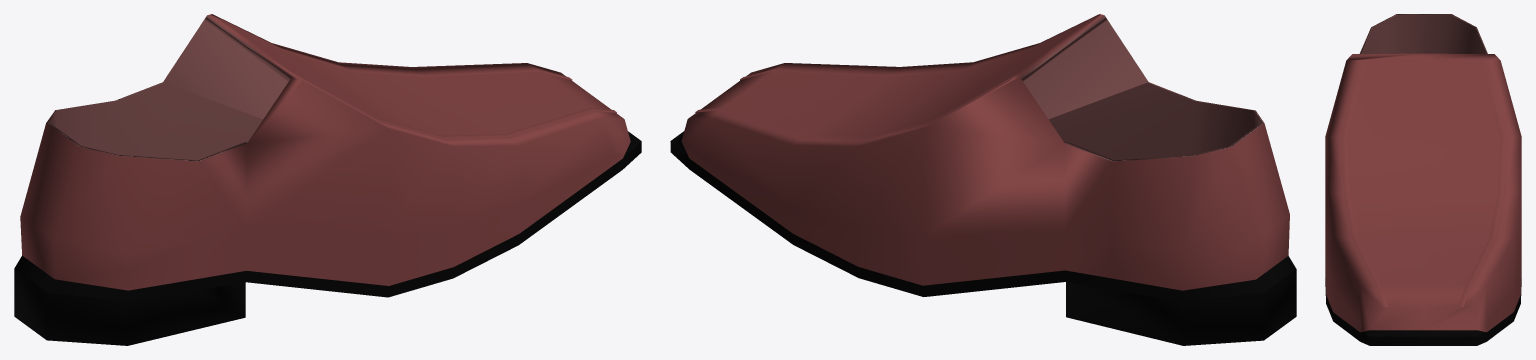
Rendered from dresshoe_02.fbx.
The picture shows the model from 3 angles, left to right: view 1: azimuth 30°, elevation 25°; view 2: azimuth 150°, elevation 25°; view 3: azimuth 270°, elevation 25°; orthographic projection. The views are drawn at different scales.
Parts seen in each view (by area): view 1: pCube1; view 2: pCube1; view 3: pCube1.
Part boxes in pixels (box(x1,y1,x2,y2)): pCube1: box(14, 14, 641, 345); pCube1: box(670, 14, 1296, 345); pCube1: box(1325, 14, 1521, 345).
Size of the model in its own units: 69.75 by 26.48 by 24.36.
